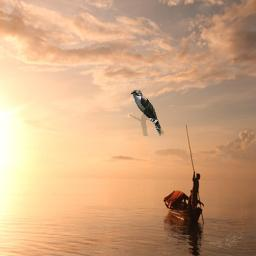Cuckoo: (130, 90, 164, 136)
